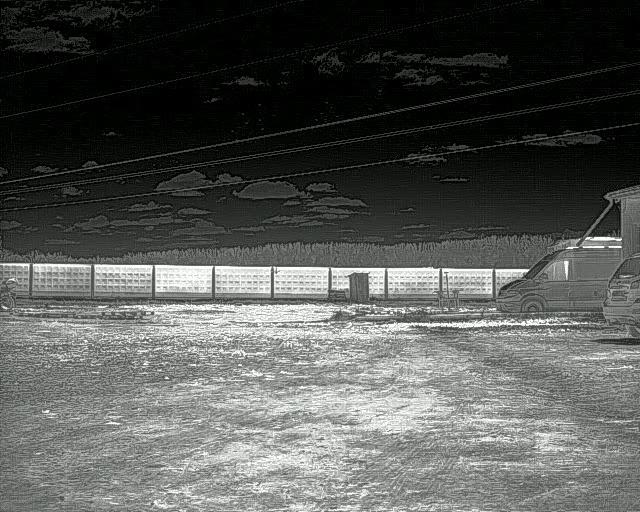drone-thermal: (270, 267, 282, 275)
